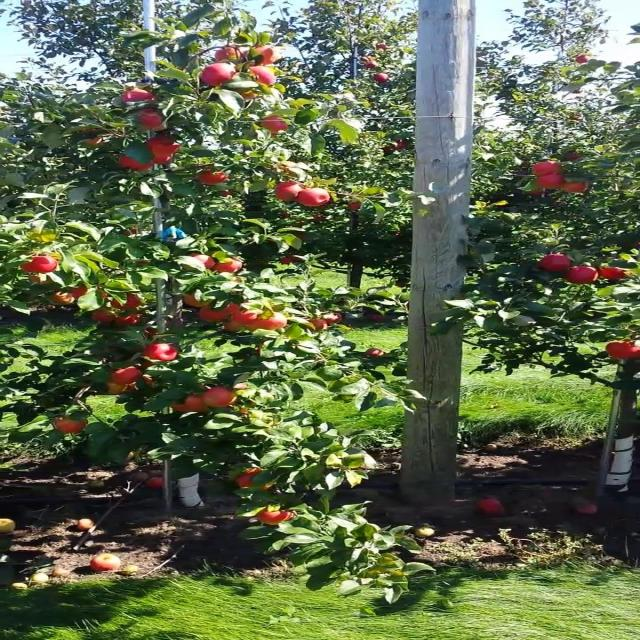apple: (198, 304, 242, 324), (255, 508, 293, 527), (298, 188, 334, 208), (170, 396, 212, 413), (205, 64, 236, 87), (141, 344, 178, 363), (255, 312, 290, 332), (20, 256, 59, 273), (148, 136, 181, 155), (141, 108, 167, 132), (241, 472, 272, 492), (205, 388, 236, 408), (56, 288, 91, 305), (276, 184, 306, 203), (120, 156, 155, 172), (234, 312, 263, 331), (540, 256, 574, 272), (248, 68, 277, 85), (262, 116, 290, 133), (568, 268, 597, 284), (113, 296, 142, 312), (113, 368, 142, 384), (611, 344, 639, 360), (234, 312, 263, 327), (198, 172, 229, 186), (56, 420, 85, 433), (255, 48, 277, 65), (191, 256, 219, 269), (532, 164, 562, 176), (220, 48, 247, 61), (127, 92, 156, 104), (106, 384, 135, 396), (604, 268, 629, 281), (84, 132, 105, 147), (184, 296, 210, 308), (319, 312, 345, 324), (540, 176, 565, 188), (220, 260, 242, 273), (92, 312, 114, 324), (305, 320, 327, 332), (120, 316, 142, 328), (561, 184, 590, 193), (276, 164, 297, 176), (28, 276, 55, 285), (227, 320, 244, 332), (141, 376, 156, 387), (284, 256, 304, 264), (156, 156, 174, 164), (241, 92, 258, 100), (568, 152, 583, 160), (348, 204, 363, 211), (148, 328, 158, 336), (241, 408, 251, 416), (369, 352, 384, 357)
